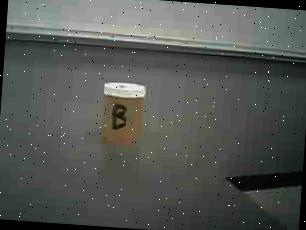Bottle B: (93, 76, 154, 152)
